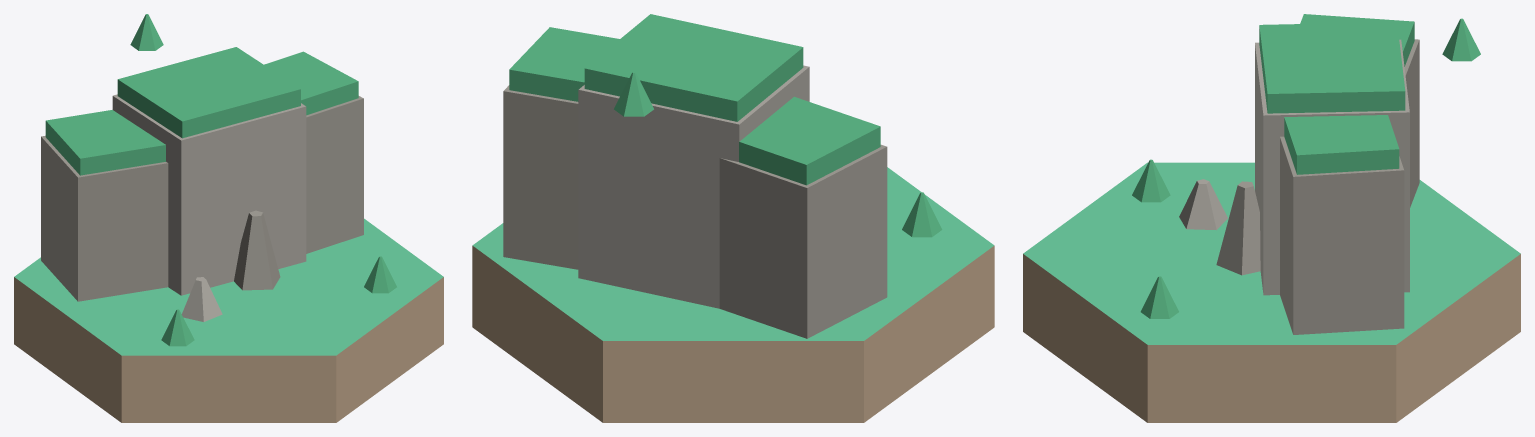
The model's file is cliff-small.glb.
The picture shows the model from 3 angles, left to right: view 1: azimuth 30°, elevation 25°; view 2: azimuth 150°, elevation 25°; view 3: azimuth 270°, elevation 25°; orthographic projection. The views are drawn at different scales.
Parts seen in each view (by area): view 1: base, cliff_c, cliff_w, top_c, cliff_e, top_w, top_e, tooth, scree, tree1, tree0, tree2; view 2: base, cliff_c, cliff_w, top_c, cliff_e, top_w, top_e, tree1, tree2; view 3: base, cliff_e, top_c, cliff_c, top_e, tooth, cliff_w, scree, top_w, tree1, tree2, tree0.
Boxes of the visible parts, bbox=[...] form: base: bbox=[14, 218, 443, 422]; cliff_c: bbox=[112, 94, 306, 295]; cliff_w: bbox=[41, 135, 168, 301]; top_c: bbox=[117, 47, 300, 138]; cliff_e: bbox=[306, 96, 363, 253]; top_w: bbox=[45, 110, 165, 175]; top_e: bbox=[264, 51, 358, 115]; tooth: bbox=[234, 210, 280, 290]; scree: bbox=[181, 277, 222, 321]; tree1: bbox=[161, 309, 194, 346]; tree0: bbox=[364, 256, 396, 293]; tree2: bbox=[130, 14, 163, 50]; base: bbox=[472, 167, 994, 422]; cliff_c: bbox=[578, 65, 809, 308]; cliff_w: bbox=[719, 144, 887, 338]; top_c: bbox=[584, 14, 803, 121]; cliff_e: bbox=[503, 85, 578, 269]; top_w: bbox=[739, 96, 880, 185]; top_e: bbox=[509, 27, 619, 101]; tree1: bbox=[902, 192, 942, 237]; tree2: bbox=[614, 71, 653, 116]; base: bbox=[1023, 162, 1520, 422]; cliff_e: bbox=[1280, 136, 1404, 334]; top_c: bbox=[1259, 22, 1405, 113]; cliff_c: bbox=[1255, 39, 1409, 295]; top_e: bbox=[1284, 115, 1399, 174]; tooth: bbox=[1216, 181, 1260, 275]; cliff_w: bbox=[1404, 39, 1419, 207]; scree: bbox=[1179, 179, 1227, 230]; top_w: bbox=[1300, 14, 1414, 66]; tree1: bbox=[1132, 159, 1170, 202]; tree2: bbox=[1442, 18, 1480, 61]; tree0: bbox=[1140, 276, 1178, 318].
Size of the model in its own units: 1 by 0.8 by 1.15.
